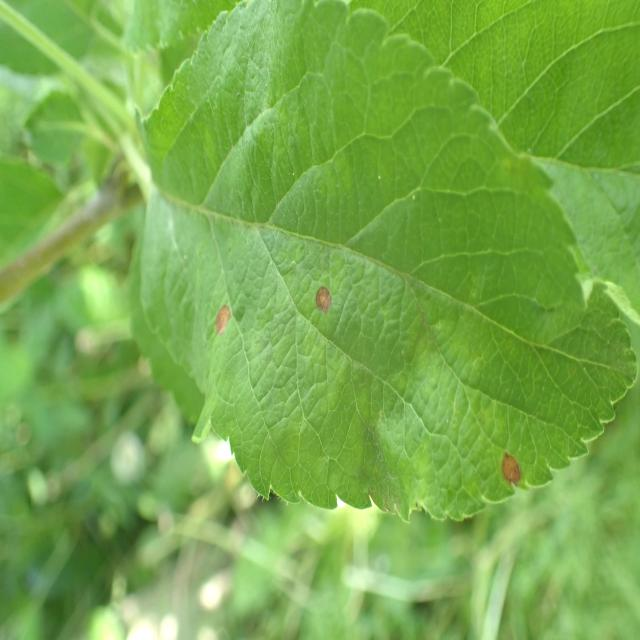Black Rot: (207, 265, 243, 363), (312, 274, 348, 364), (482, 446, 540, 489), (326, 312, 328, 314)
